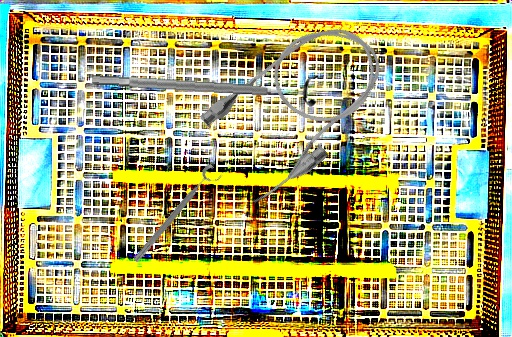Cannula: (188, 3, 408, 212)
Fixation Ring: (91, 62, 318, 109), (130, 162, 224, 270)
